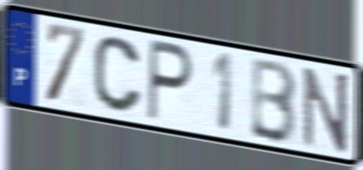1: (209, 49, 234, 134)
7: (44, 21, 88, 106)
B: (248, 55, 299, 147)
C: (91, 33, 145, 116)
N: (301, 64, 351, 155)
P: (145, 36, 195, 126)
